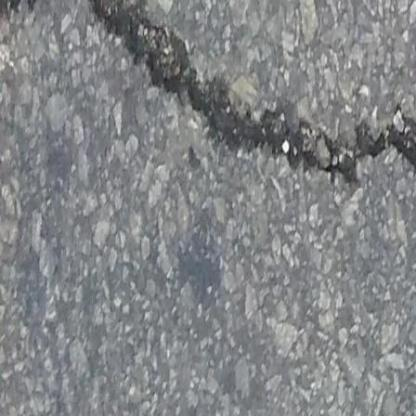Cracks: (71, 0, 416, 187), (0, 0, 49, 36)
